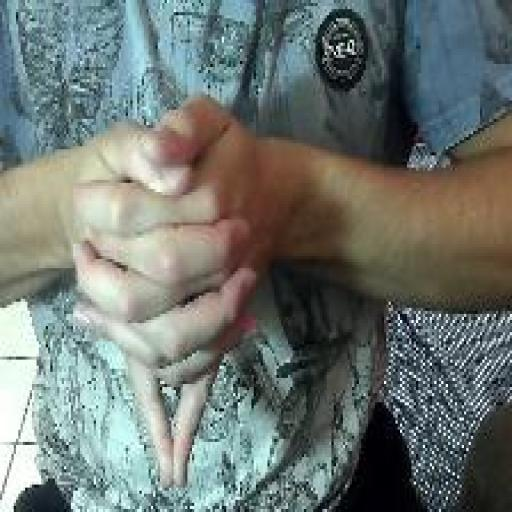Tatsu -dragon-: (69, 87, 265, 495)
